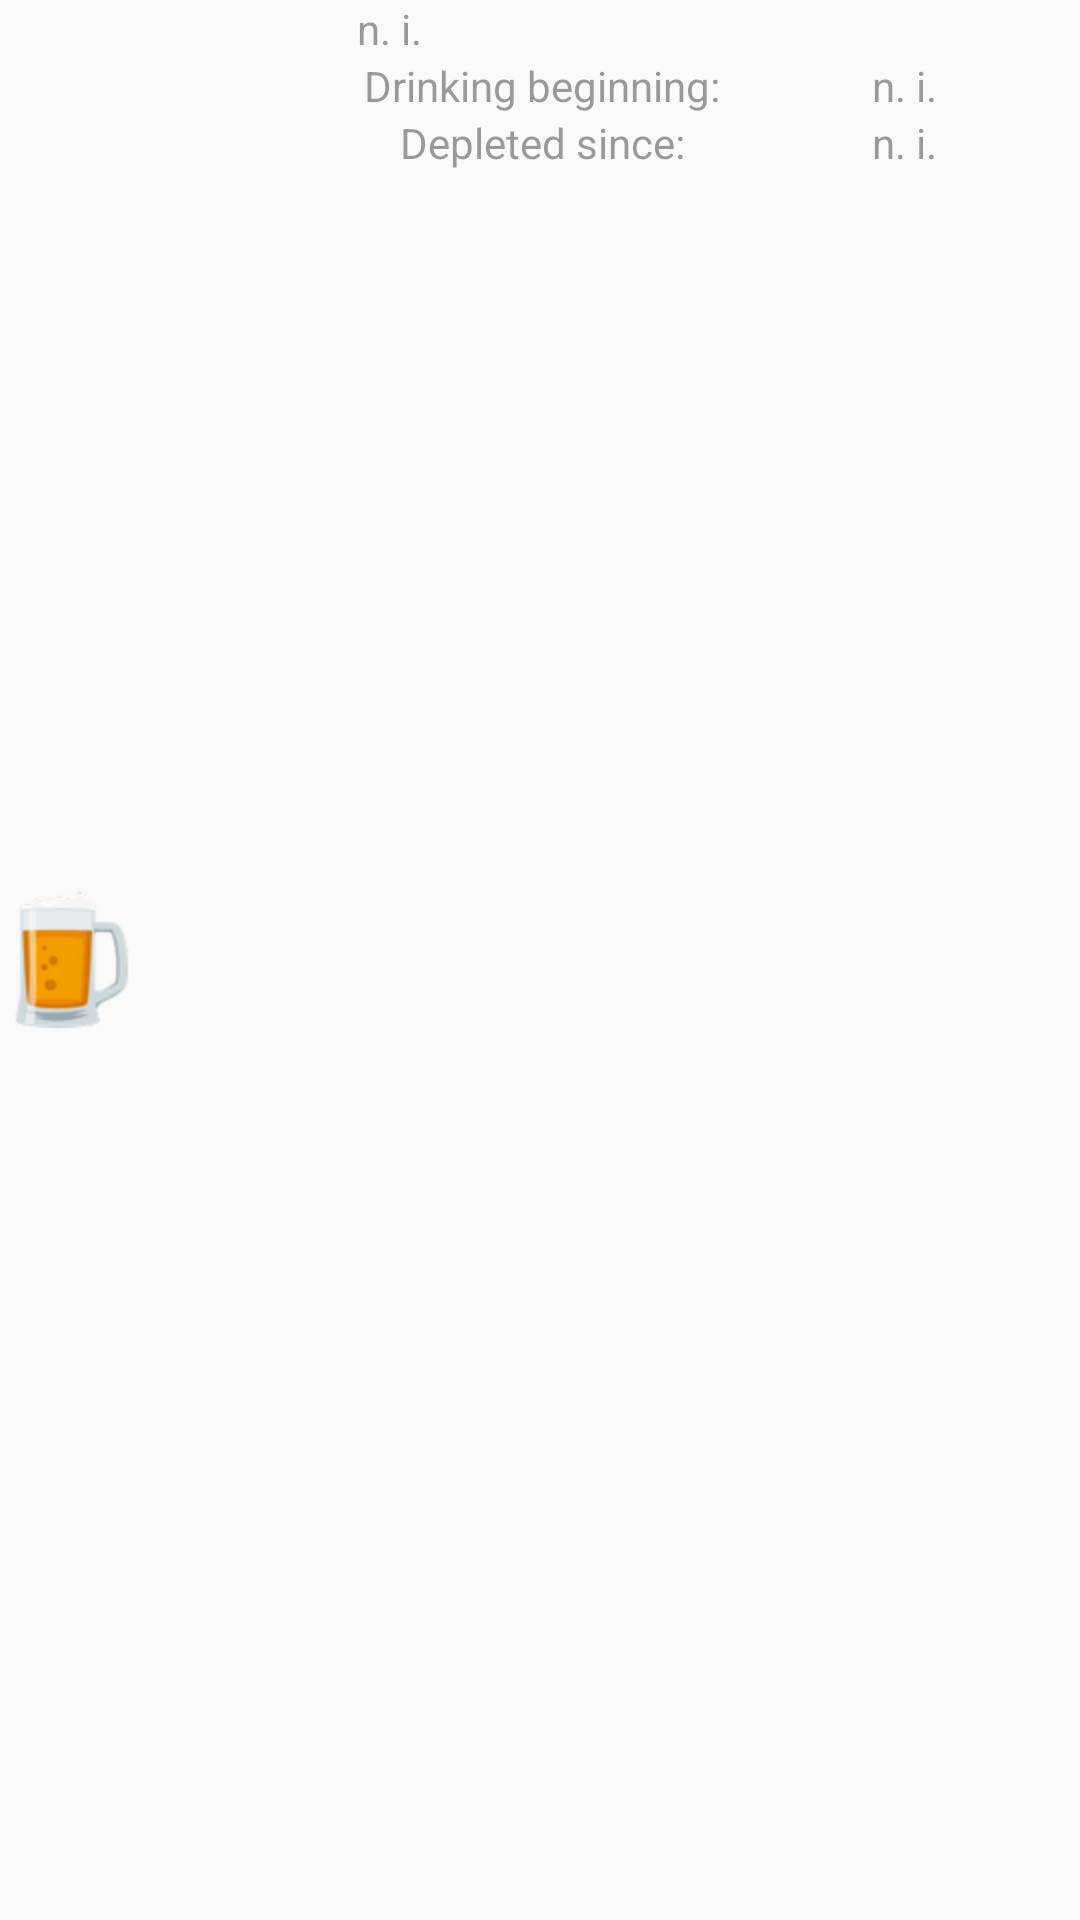

Icons on this 1080px x 1920px Android screen, each with its box as detection(x1, y1, x2, y2):
beer: detection(16, 908, 128, 1028)
